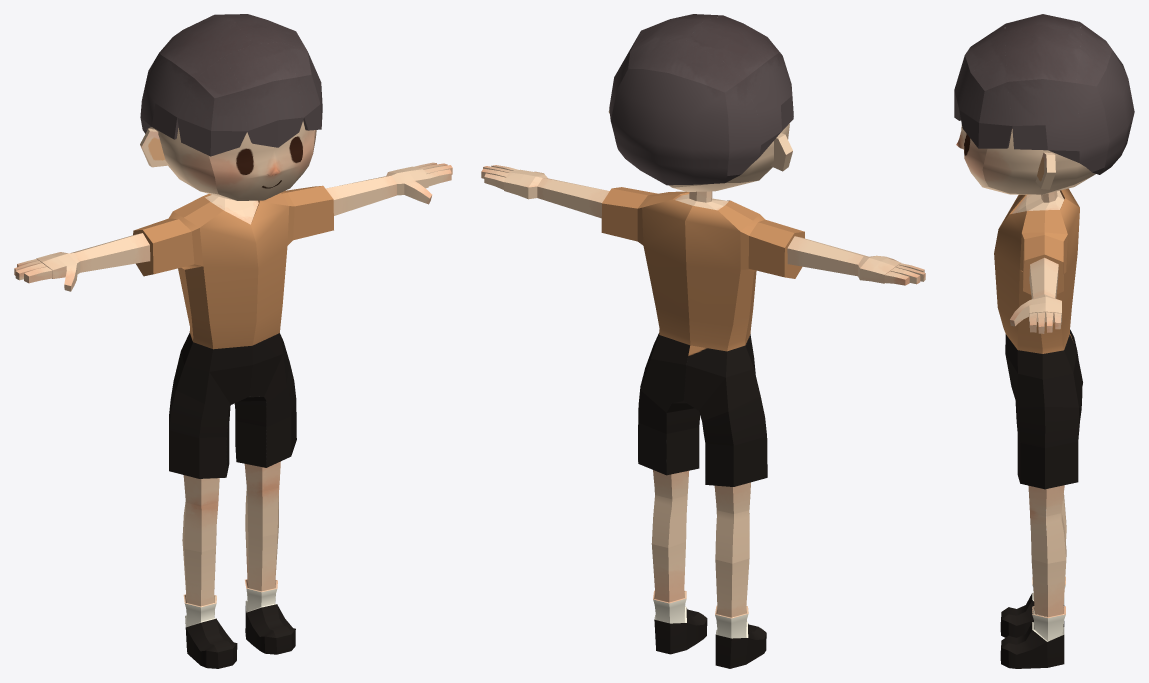
The model's file is NPC2_B_Texture.obj.
3 renders of one model, left to right at view 1: azimuth 30°, elevation 25°; view 2: azimuth 150°, elevation 25°; view 3: azimuth 270°, elevation 25°, orthographic.
Visible parts, largest first — view 1: Body_standardSurface10SG, Head_uv_standardSurface9SG_1, Head_uv_standardSurface9SG, ears_standardSurface9SG; view 2: Body_standardSurface10SG, Head_uv_standardSurface9SG_1, Head_uv_standardSurface9SG; view 3: Body_standardSurface10SG, Head_uv_standardSurface9SG_1, Head_uv_standardSurface9SG, ears_standardSurface9SG.
Part boxes in pixels (x1,y1,x2,y2): Body_standardSurface10SG: [14, 162, 452, 668]; Head_uv_standardSurface9SG_1: [140, 14, 322, 156]; Head_uv_standardSurface9SG: [148, 121, 316, 200]; ears_standardSurface9SG: [140, 129, 169, 167]; Body_standardSurface10SG: [481, 165, 925, 668]; Head_uv_standardSurface9SG_1: [609, 14, 793, 185]; Head_uv_standardSurface9SG: [669, 123, 789, 191]; Body_standardSurface10SG: [994, 188, 1082, 668]; Head_uv_standardSurface9SG_1: [954, 14, 1134, 174]; Head_uv_standardSurface9SG: [956, 124, 1095, 194]; ears_standardSurface9SG: [1035, 152, 1055, 189].
Bounding box in the file's own units: 15.43 × 21.12 × 5.54.
Materials: 2 (2 with a texture image).
